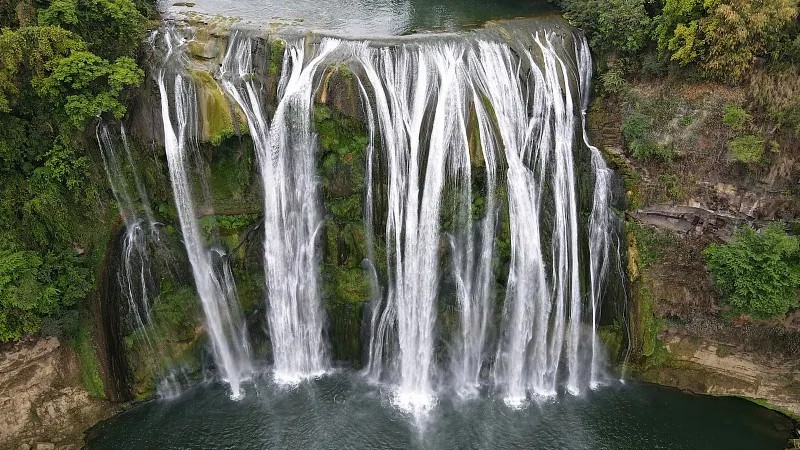Huangguoshu: (116, 25, 614, 400)
